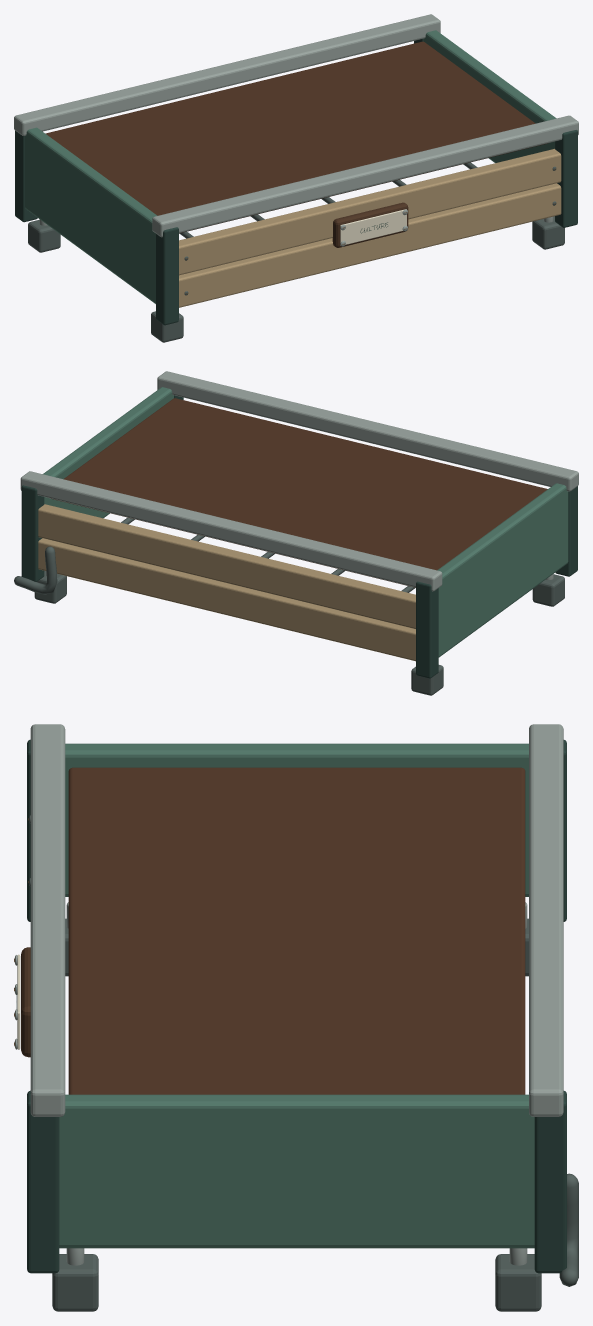
File: grow_bed.glb
3 renders of one model, top to bottom at view 1: azimuth 30°, elevation 25°; view 2: azimuth 150°, elevation 25°; view 3: azimuth 270°, elevation 25°, orthographic. The views are drawn at different scales.
Visible parts, largest first — view 1: Soil, Timber_front.003, Timber_front.002, End_plate, Reinforced_top_rail, Reinforced_top_rail.001, End_plate.001, Metal_corner.001, Metal_corner.003, Sign_cream_face, Metal_corner, Sign_timber (+3 smaller); view 2: Soil, Timber_front.001, Timber_front, End_plate, Reinforced_top_rail.001, Reinforced_top_rail, End_plate.001, Metal_corner, Metal_corner.002, Metal_corner.001, Drain_pipe, Adjustable_foot.001 (+2 smaller); view 3: Soil, End_plate.001, Reinforced_top_rail.001, Reinforced_top_rail, End_plate, Metal_corner.003, Metal_corner.002, Adjustable_foot.002, Adjustable_foot.003, Drain_pipe, Sign_timber.
Boxes of the visible parts, x1=… form: Soil: x1=45, y1=41, x2=547, y2=233; Timber_front.003: x1=179, y1=148, x2=561, y2=275; Timber_front.002: x1=179, y1=183, x2=561, y2=307; End_plate: x1=25, y1=127, x2=157, y2=303; Reinforced_top_rail: x1=14, y1=14, x2=440, y2=135; Reinforced_top_rail.001: x1=152, y1=115, x2=578, y2=237; End_plate.001: x1=424, y1=30, x2=556, y2=162; Metal_corner.001: x1=156, y1=227, x2=178, y2=325; Metal_corner.003: x1=555, y1=130, x2=577, y2=227; Sign_cream_face: x1=340, y1=209, x2=406, y2=245; Metal_corner: x1=15, y1=130, x2=37, y2=222; Sign_timber: x1=332, y1=202, x2=408, y2=247; Soil: x1=51, y1=398, x2=547, y2=587; Timber_front.001: x1=38, y1=504, x2=415, y2=628; Timber_front: x1=38, y1=538, x2=415, y2=661; End_plate: x1=437, y1=483, x2=568, y2=657; Reinforced_top_rail.001: x1=157, y1=371, x2=578, y2=491; Reinforced_top_rail: x1=20, y1=471, x2=442, y2=591; End_plate.001: x1=43, y1=387, x2=173, y2=518; Metal_corner: x1=416, y1=581, x2=438, y2=678; Metal_corner.002: x1=21, y1=485, x2=44, y2=581; Metal_corner.001: x1=555, y1=486, x2=577, y2=576; Drain_pipe: x1=14, y1=546, x2=57, y2=594; Adjustable_foot.001: x1=532, y1=574, x2=564, y2=606; Soil: x1=68, y1=767, x2=525, y2=1094; End_plate.001: x1=59, y1=1094, x2=534, y2=1248; Reinforced_top_rail.001: x1=30, y1=724, x2=65, y2=1116; Reinforced_top_rail: x1=529, y1=724, x2=563, y2=1116; End_plate: x1=65, y1=743, x2=528, y2=896; Metal_corner.003: x1=27, y1=1090, x2=59, y2=1273; Metal_corner.002: x1=534, y1=1091, x2=566, y2=1273; Adjustable_foot.002: x1=495, y1=1254, x2=541, y2=1311; Adjustable_foot.003: x1=52, y1=1254, x2=98, y2=1311; Drain_pipe: x1=559, y1=1173, x2=578, y2=1286; Sign_timber: x1=21, y1=947, x2=30, y2=1057.
Bounding box in the file's own units: 1.91 × 0.5475 × 1.22.
